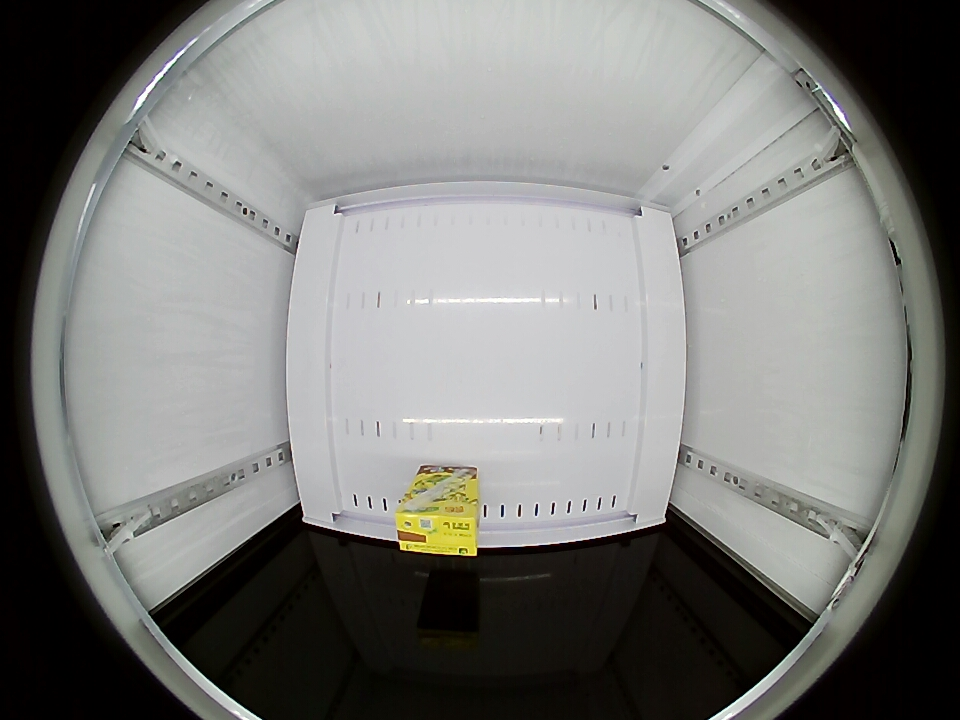weitaningmeng: (395, 495, 479, 555)
